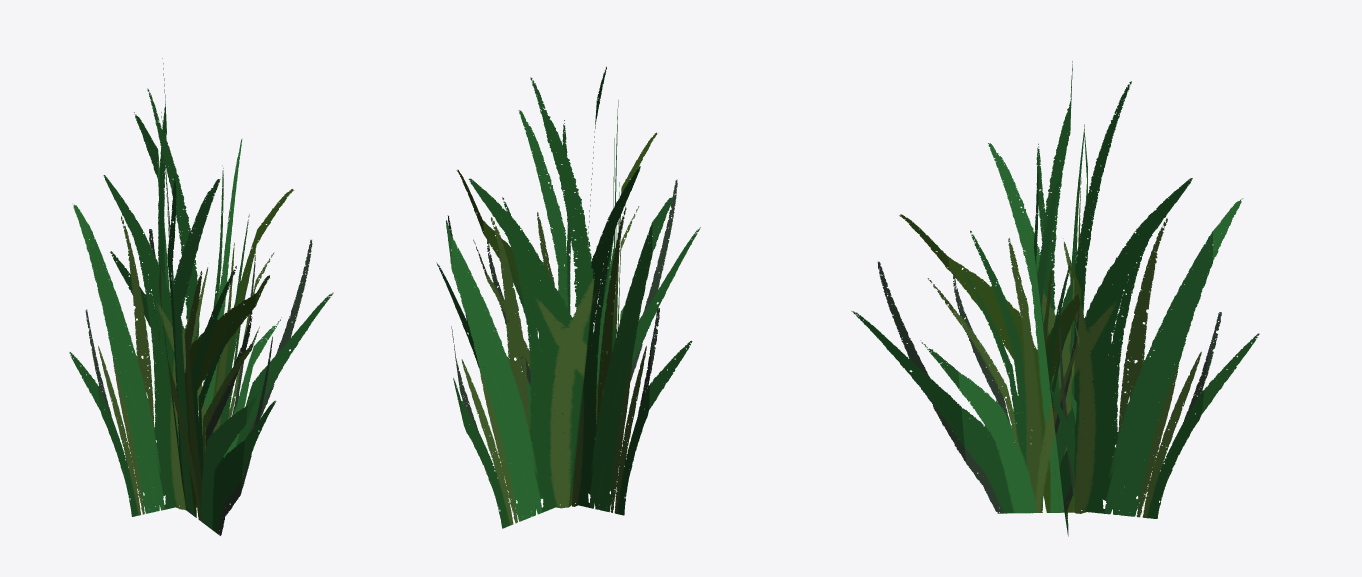
The model's file is grass_3D.fbx.
3 views of the same model, side by side, from view 1: azimuth 30°, elevation 25°; view 2: azimuth 150°, elevation 25°; view 3: azimuth 270°, elevation 25° (orthographic). The views are drawn at different scales.
Parts seen in each view (by area): view 1: grass; view 2: grass; view 3: grass.
Part boxes in pixels (left/top/right/bottom): grass: left=69, top=58, right=333, bottom=535; grass: left=436, top=66, right=700, bottom=528; grass: left=851, top=61, right=1259, bottom=536.
Bounding box in the file's own units: 73.04 × 100 × 100.
